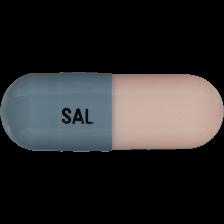47781-729: (0, 0, 224, 224)
